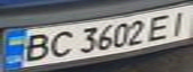0: (112, 19, 133, 48)
2: (127, 16, 151, 46)
3: (75, 25, 100, 54)
6: (96, 21, 115, 52)
B: (15, 30, 54, 63)
C: (42, 28, 78, 60)
E: (145, 11, 178, 40)
I: (163, 7, 193, 36)
